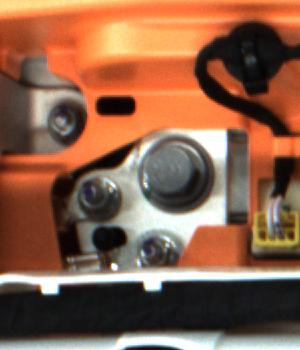screw_s: (43, 105, 95, 152), (76, 179, 120, 215), (132, 231, 173, 267)
